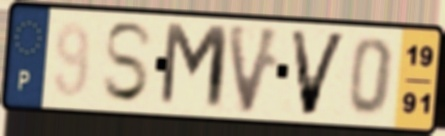0: (346, 34, 395, 120)
9: (51, 19, 96, 101)
M: (156, 19, 232, 115)
S: (99, 20, 157, 106)
V: (286, 27, 351, 119), (224, 20, 285, 117)
